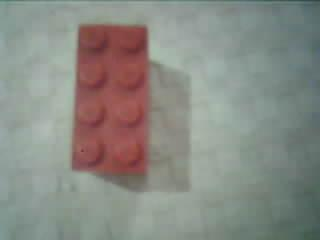lego: (68, 23, 149, 177)
